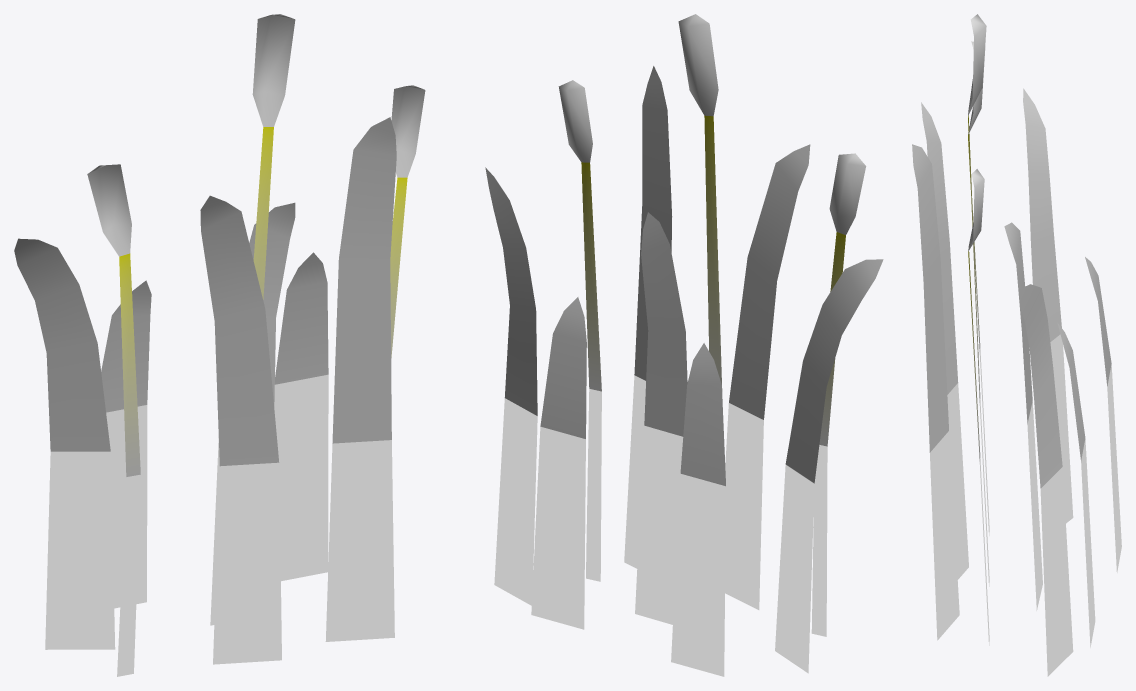
The model's file is prop-forest-water_cattail_03.glb.
3 renders of one model, left to right at view 1: azimuth 30°, elevation 25°; view 2: azimuth 150°, elevation 25°; view 3: azimuth 270°, elevation 25°, orthographic. The views are drawn at different scales.
Parts seen in each view (by area): view 1: prop-forest-water_cattail_03; view 2: prop-forest-water_cattail_03; view 3: prop-forest-water_cattail_03.
Boxes of the visible parts, x1,y1,x2,y2 form: prop-forest-water_cattail_03: [14, 14, 425, 676]; prop-forest-water_cattail_03: [485, 14, 883, 676]; prop-forest-water_cattail_03: [912, 14, 1121, 676].
Bounding box in the file's own units: 5.62 × 7.81 × 2.57.
